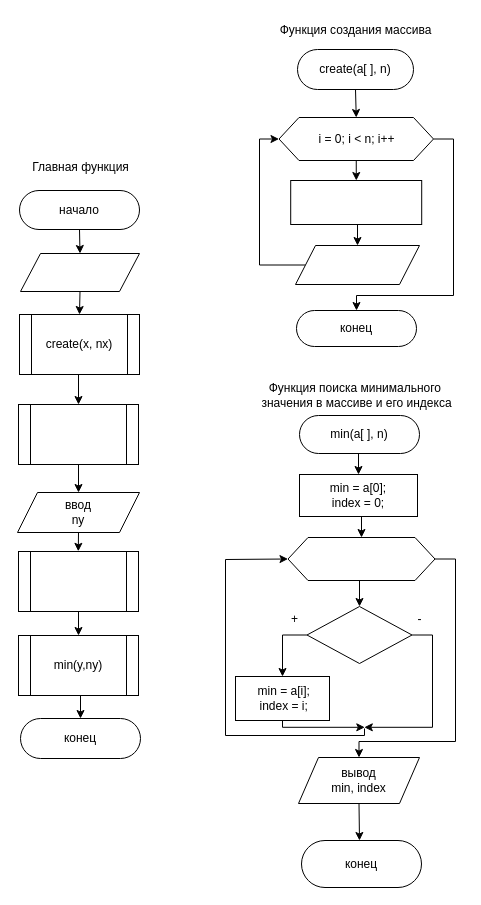
The diagram is 481 pixels wide and 905 high, and some of its shapes have lost their labels. The shapes that lost their labels are listed below. From the top down, each one's box as (x1, y1, x2, y2) in pixels, then its label:
(290, 180, 422, 224): a[i] = rand() % 21 - 10;
(20, 252, 140, 292): ввод nx
(294, 244, 420, 284): вывод a[i]
(18, 404, 138, 464): min(x, nx)
(287, 536, 435, 580): i = 0; i < n;i++
(18, 550, 138, 612): create(y, ny)
(306, 606, 412, 664): min > a[i]
